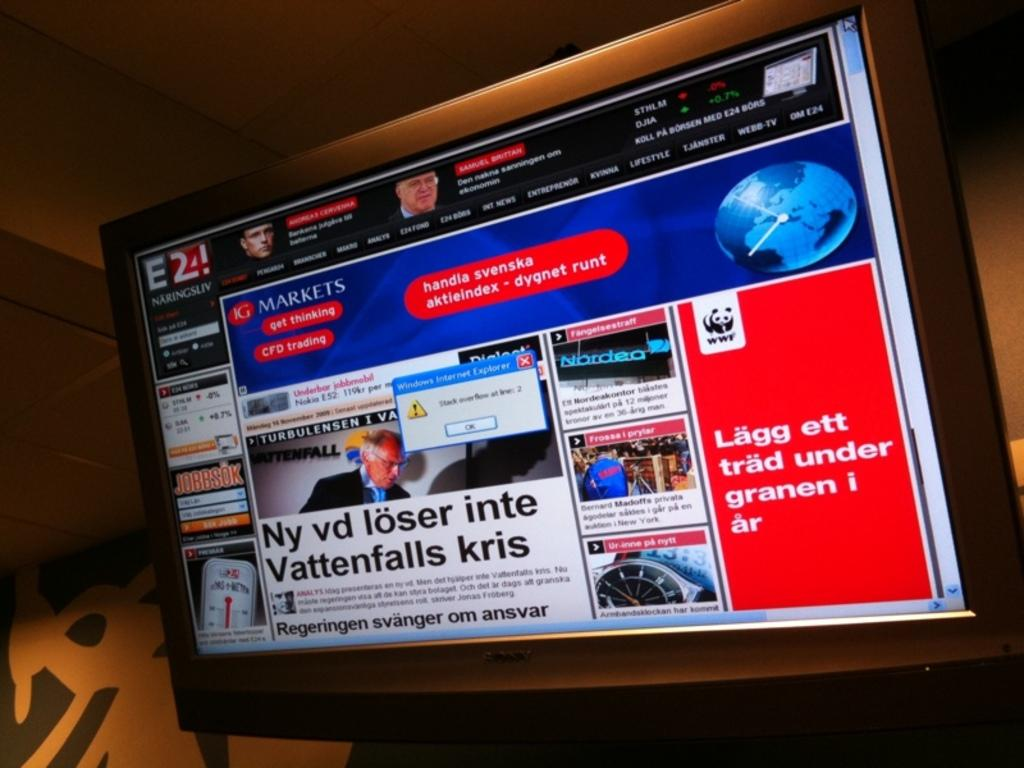Computer-monitor: (95, 0, 1023, 764)
